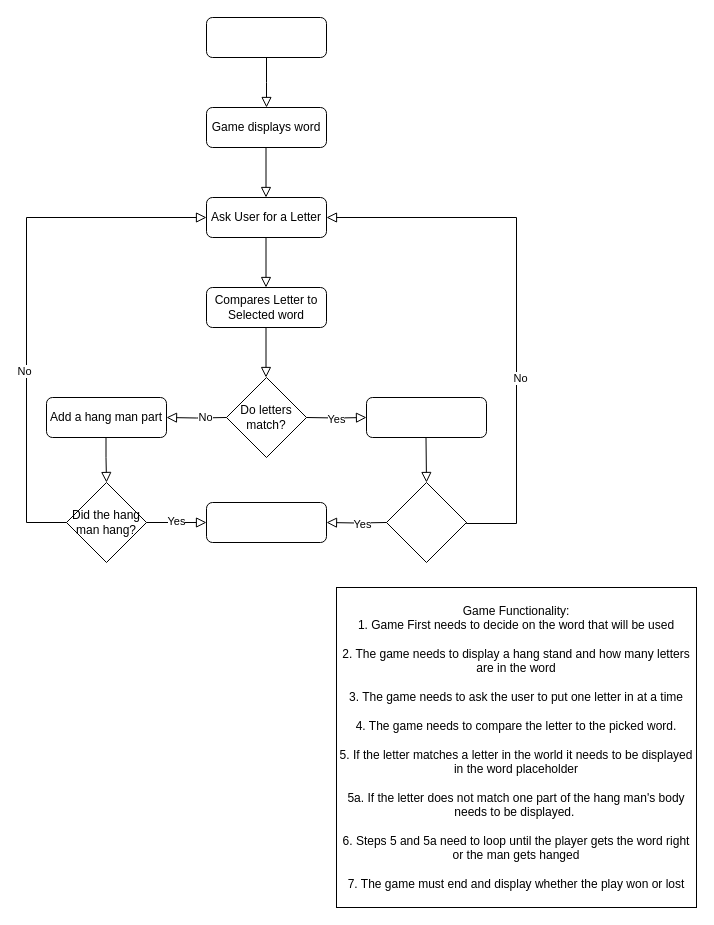
Some shapes in this 714 by 925 pixel diagram are drawn without their labels. Each missing label, with the centre of its shape:
"Add letter to place holder" belongs at point 426,417.
"End Game" belongs at point 266,522.
"Game Picks work" belongs at point 266,37.
"Is the word complete?" belongs at point 426,522.
